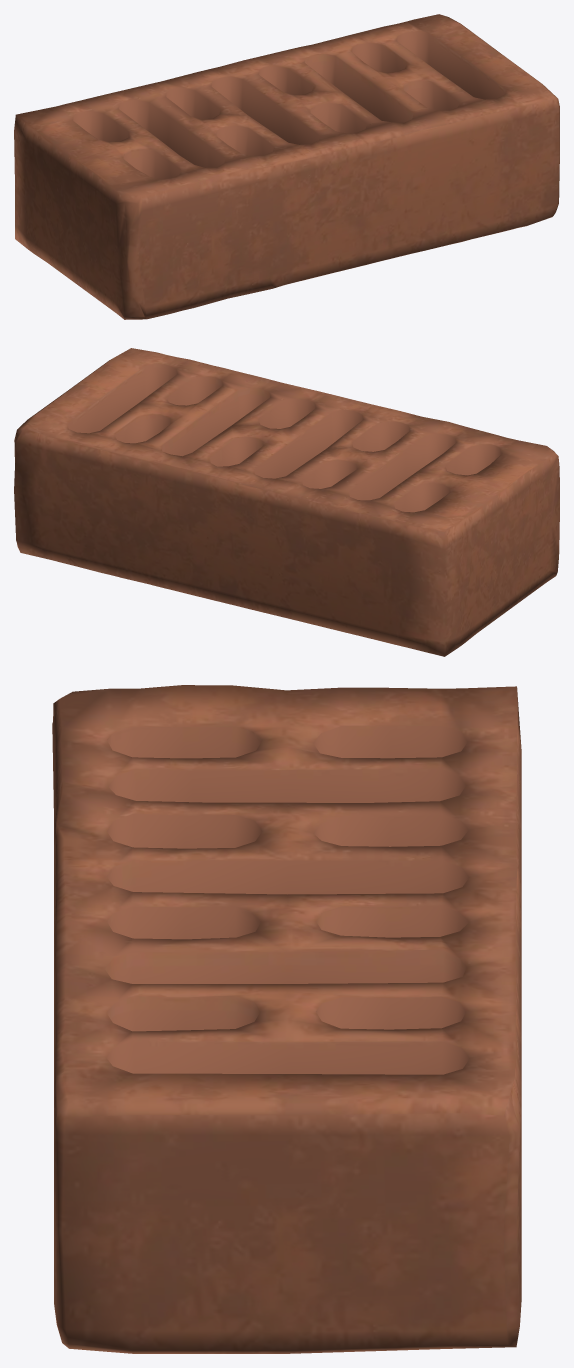
File: Brick_two.glb
The picture shows the model from 3 angles, top to bottom: view 1: azimuth 30°, elevation 25°; view 2: azimuth 150°, elevation 25°; view 3: azimuth 270°, elevation 25°; orthographic projection. The views are drawn at different scales.
Visible parts, largest first — view 1: Cylinder.005; view 2: Cylinder.005; view 3: Cylinder.005.
Part boxes in pixels (x1,y1,x2,y2): Cylinder.005: (14,14,559,319); Cylinder.005: (14,348,559,656); Cylinder.005: (52,685,521,1353).
Size of the model in its own units: 1.08 by 0.301 by 0.5039.
Materials: 1 (1 with a texture image).
